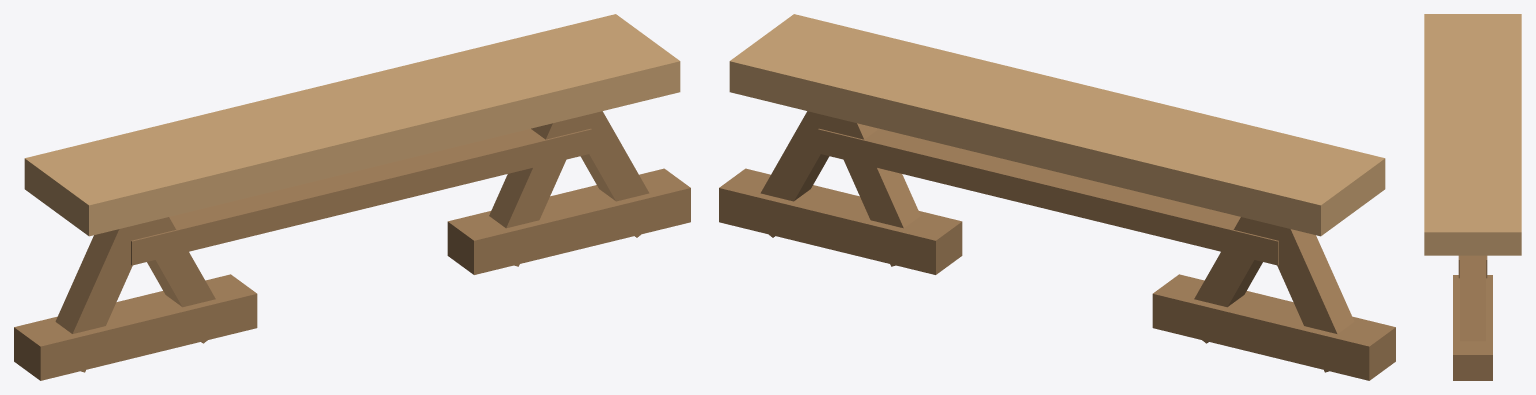
The model's file is trestle-bench.glb.
3 renders of one model, left to right at view 1: azimuth 30°, elevation 25°; view 2: azimuth 150°, elevation 25°; view 3: azimuth 270°, elevation 25°, orthographic. The views are drawn at different scales.
Parts seen in each view (by area): view 1: trestle-bench; view 2: trestle-bench; view 3: trestle-bench.
Part boxes in pixels (x1,y1,x2,y2): trestle-bench: (14, 14, 690, 380); trestle-bench: (719, 14, 1395, 380); trestle-bench: (1424, 14, 1521, 380).
Bounding box in the file's own units: 1.98 × 0.5509 × 0.3399.
